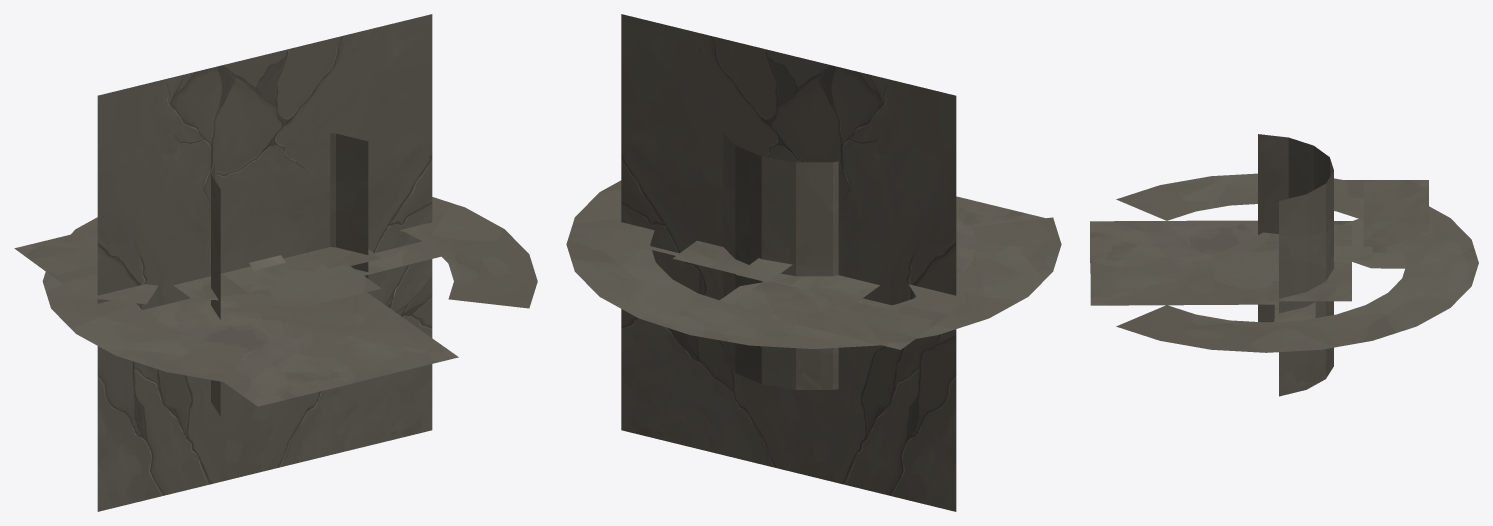
Rendered from tut.gltf.
The picture shows the model from 3 angles, left to right: view 1: azimuth 30°, elevation 25°; view 2: azimuth 150°, elevation 25°; view 3: azimuth 270°, elevation 25°; orthographic projection. The views are drawn at different scales.
Visible parts, largest first — view 1: Temple_BigWall, EN_TutorialIsland02, EN_Temple_Island_StartBack, Temple_Wall_Exit, EN_Temple_Island_Start, EN_TutorialIsland02_v01, EN_TutorialIsland03, EN_TutorialIsland04.001; view 2: Temple_BigWall, EN_Temple_Island_StartBack, Temple_Wall_Exit, EN_TutorialIsland02_v01, EN_TutorialIsland02, EN_TutorialIsland04.001, EN_Temple_Island_Start, EN_Temple_Start_Ramp; view 3: EN_Temple_Island_StartBack, EN_TutorialIsland02, Temple_Wall_Exit, EN_TutorialIsland02_v01, EN_Temple_Island_Start, EN_TutorialIsland04.001, EN_Temple_Start_Ramp.
Boxes of the visible parts, x1,y1,x2,y2 form: Temple_BigWall: [97, 14, 432, 511]; EN_TutorialIsland02: [143, 241, 458, 406]; EN_Temple_Island_StartBack: [42, 197, 537, 382]; Temple_Wall_Exit: [211, 133, 368, 416]; EN_Temple_Island_Start: [188, 264, 381, 307]; EN_TutorialIsland02_v01: [14, 228, 158, 304]; EN_TutorialIsland03: [222, 253, 328, 290]; EN_TutorialIsland04.001: [173, 247, 380, 303]; Temple_BigWall: [621, 14, 956, 511]; EN_Temple_Island_StartBack: [566, 180, 1061, 348]; Temple_Wall_Exit: [723, 133, 838, 389]; EN_TutorialIsland02_v01: [728, 281, 966, 349]; EN_TutorialIsland02: [651, 196, 1045, 307]; EN_TutorialIsland04.001: [673, 240, 879, 301]; EN_Temple_Island_Start: [720, 275, 871, 304]; EN_Temple_Start_Ramp: [736, 258, 792, 282]; EN_Temple_Island_StartBack: [1116, 173, 1478, 352]; EN_TutorialIsland02: [1090, 220, 1351, 321]; Temple_Wall_Exit: [1258, 134, 1333, 396]; EN_TutorialIsland02_v01: [1334, 180, 1428, 252]; EN_Temple_Island_Start: [1214, 219, 1406, 288]; EN_TutorialIsland04.001: [1267, 224, 1351, 301]; EN_Temple_Start_Ramp: [1333, 246, 1372, 260].
Bounding box in the file's own units: 40.97 × 38 × 37.46.
1 material, 1 textured.
